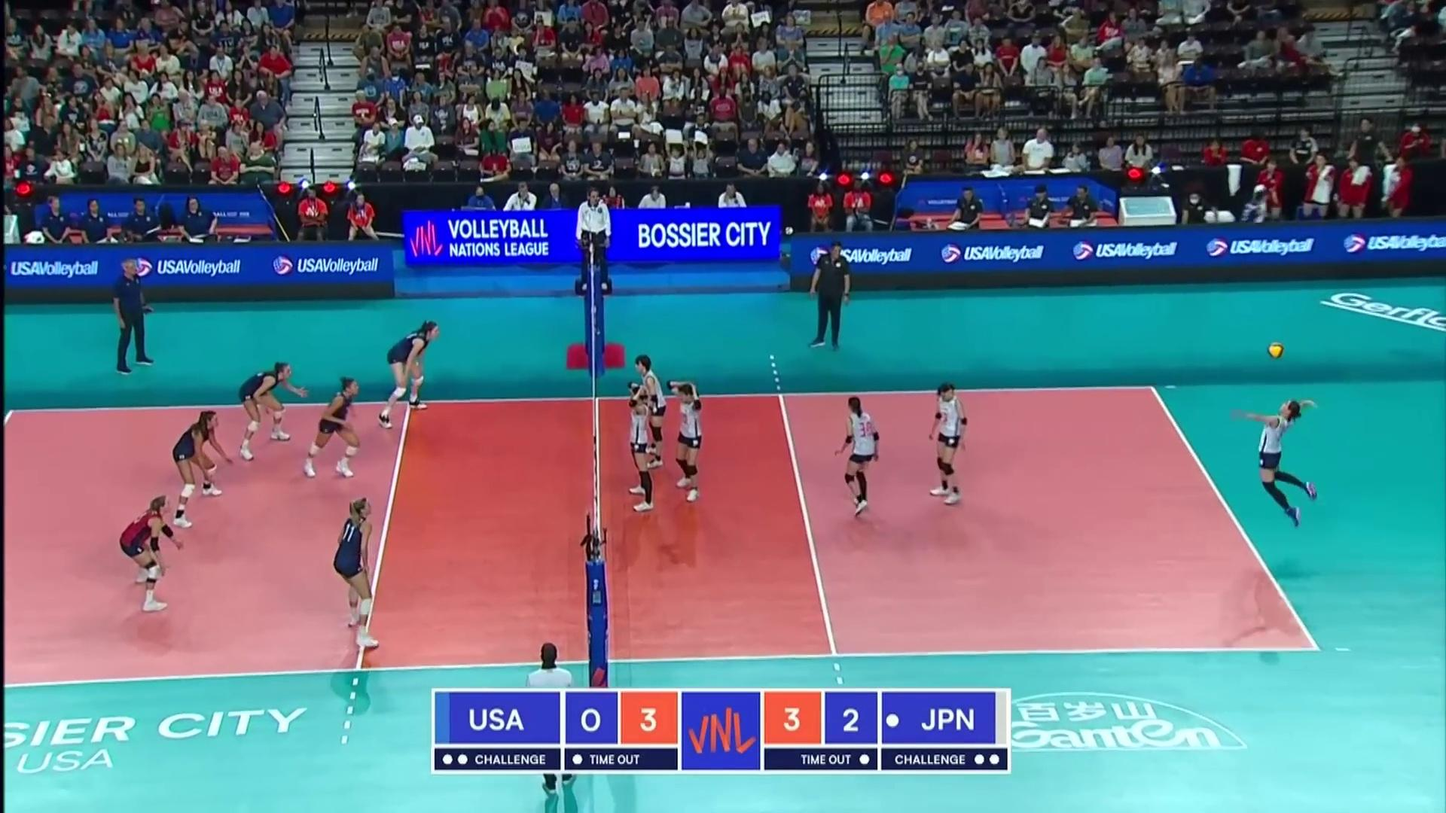player: (1235, 394, 1319, 527), (119, 493, 184, 611), (332, 497, 380, 648), (172, 409, 231, 526), (238, 363, 306, 462), (378, 321, 439, 429), (303, 377, 359, 482), (835, 397, 884, 515), (929, 383, 971, 506), (665, 381, 706, 505), (624, 382, 654, 510), (636, 356, 669, 468)
refree: (526, 641, 578, 793), (575, 190, 610, 288)
